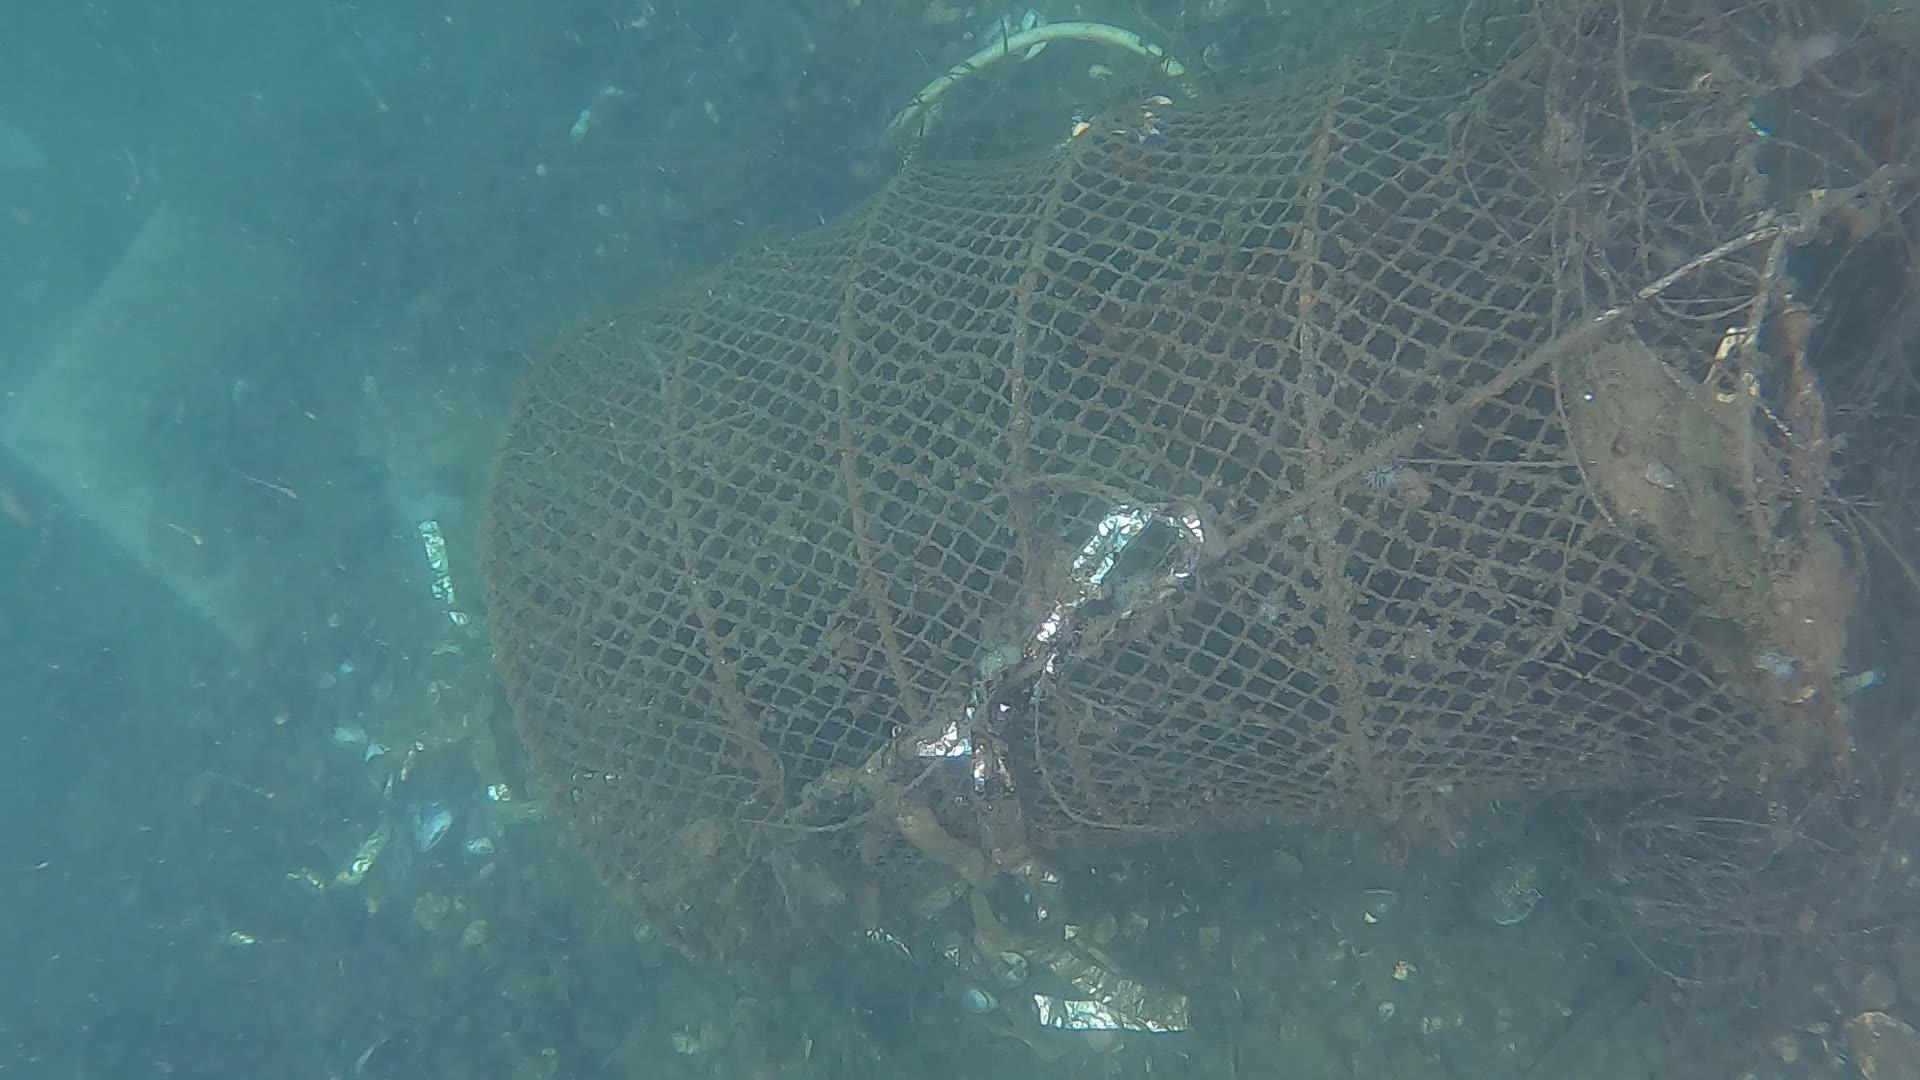spring fish trap: (471, 3, 1919, 914)
